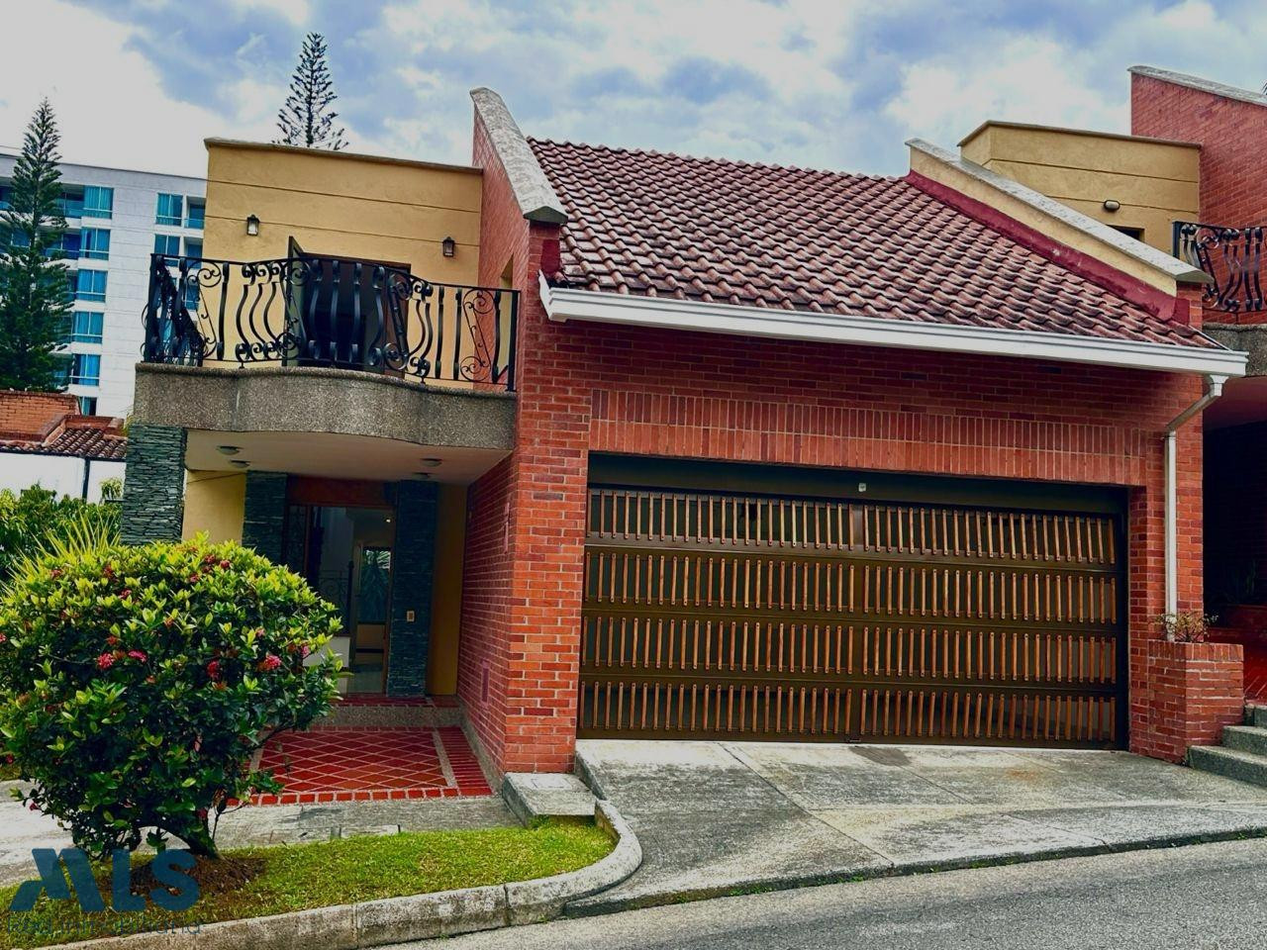House: (180, 123, 1217, 789)
